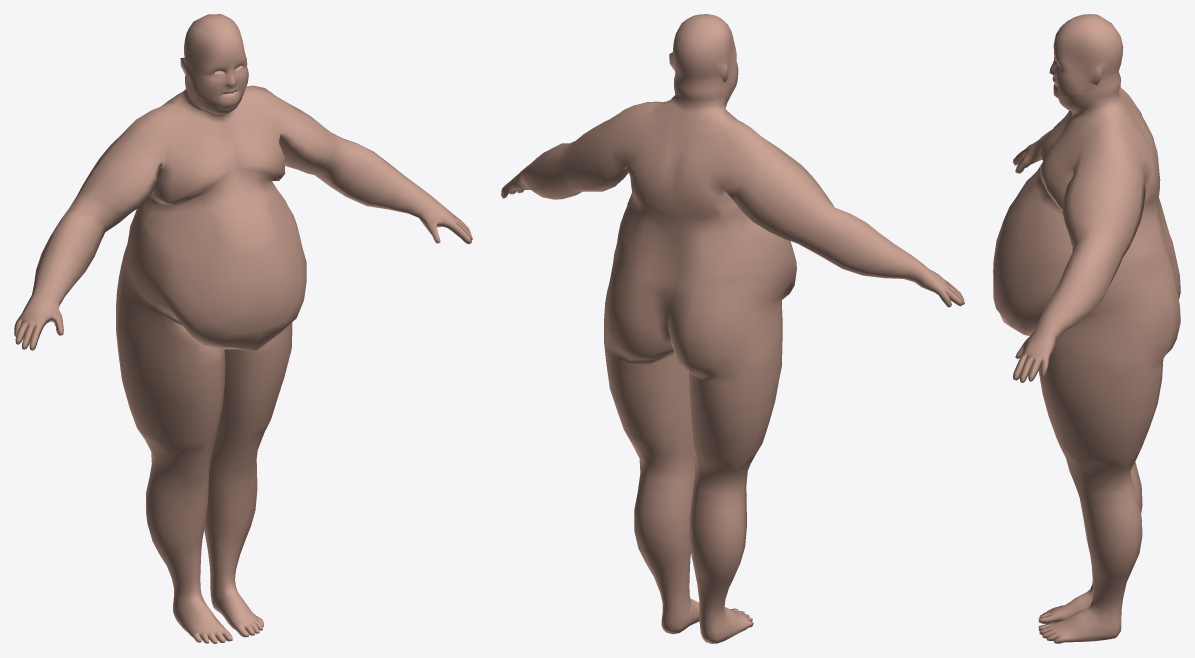
The model's file is Fat Customer Placeholder.fbx.
The picture shows the model from 3 angles, left to right: view 1: azimuth 30°, elevation 25°; view 2: azimuth 150°, elevation 25°; view 3: azimuth 270°, elevation 25°; orthographic projection.
Parts seen in each view (by area): view 1: CharacterObese:Obese_person; view 2: CharacterObese:Obese_person; view 3: CharacterObese:Obese_person.
Part boxes in pixels (bbox=[...]): CharacterObese:Obese_person: bbox=[14, 14, 472, 643]; CharacterObese:Obese_person: bbox=[501, 14, 964, 643]; CharacterObese:Obese_person: bbox=[993, 14, 1180, 643].
Bounding box in the file's own units: 134 × 171 × 47.49.
